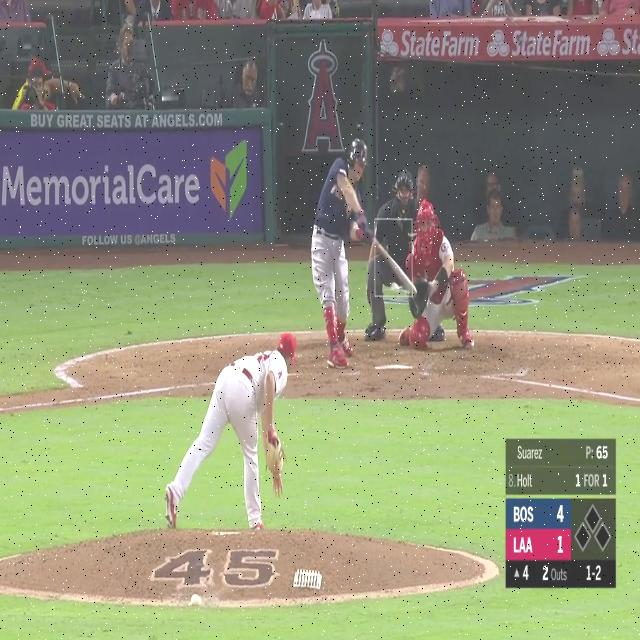baseball: (391, 282, 398, 292)
